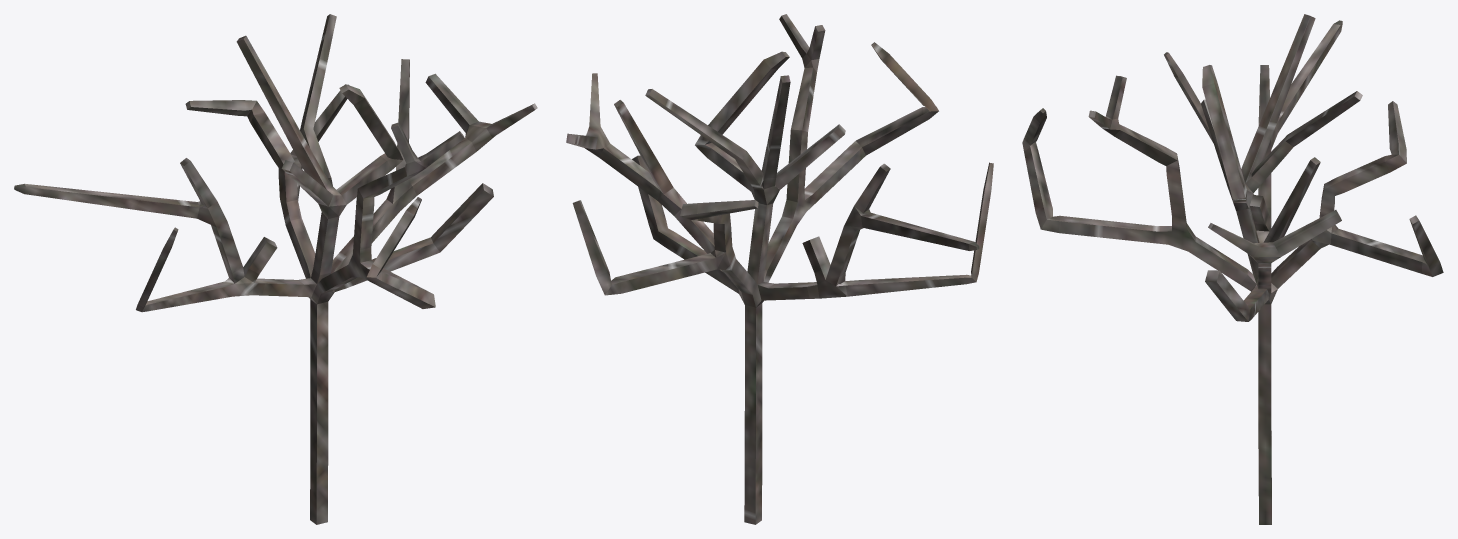
The model's file is Tree.fbx.
The picture shows the model from 3 angles, left to right: view 1: azimuth 30°, elevation 25°; view 2: azimuth 150°, elevation 25°; view 3: azimuth 270°, elevation 25°; orthographic projection.
Parts seen in each view (by area): view 1: Cube; view 2: Cube; view 3: Cube.
Part boxes in pixels (<box>): Cube: <box>14,14,537,524</box>; Cube: <box>566,14,993,524</box>; Cube: <box>1022,14,1443,524</box>.
Size of the model in its own units: 1374 by 1379 by 1095.
